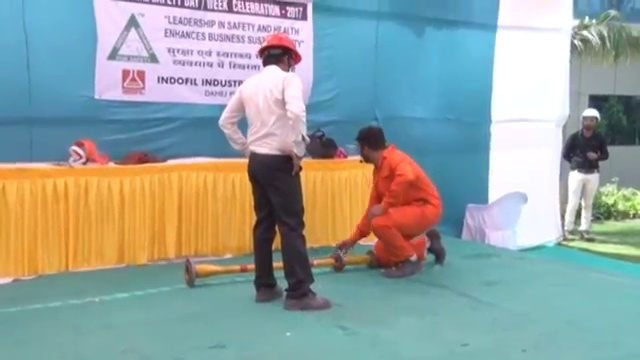helmet: (257, 33, 303, 65), (580, 107, 602, 123)
helmet_off: (356, 124, 387, 163)
helmet_on: (255, 33, 302, 75), (578, 107, 601, 137)
person: (219, 33, 333, 313), (340, 125, 451, 279), (561, 105, 612, 242)
